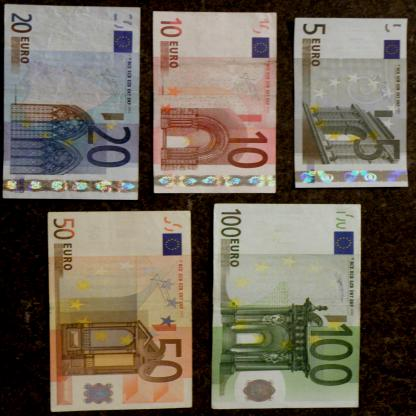euro_banknote: (184, 234, 390, 381), (21, 241, 221, 383), (123, 41, 307, 166), (267, 48, 416, 160)
